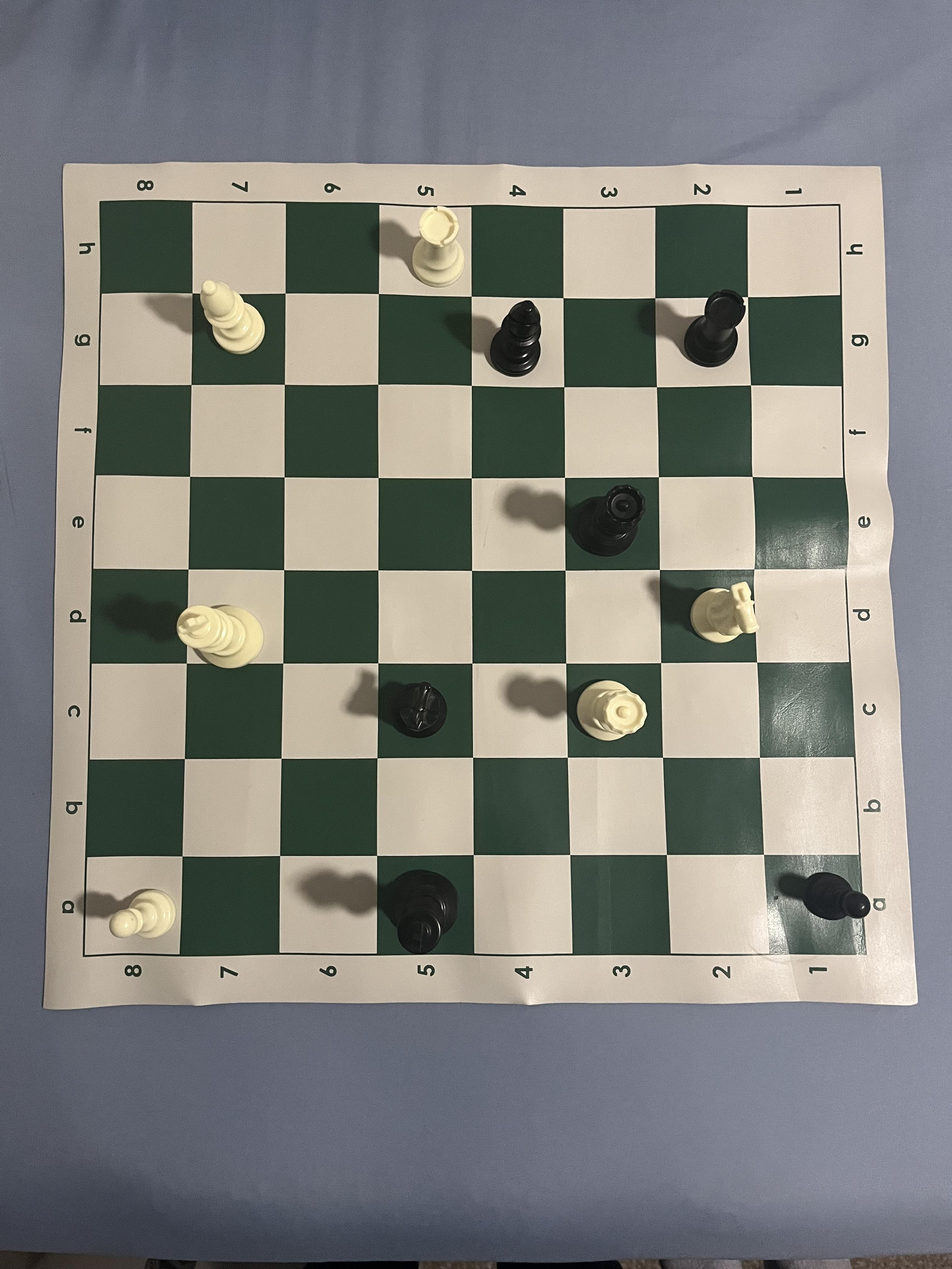black_bishop: (486, 298, 547, 378)
black_king: (383, 868, 464, 956)
black_knight: (388, 679, 452, 741)
black_pawn: (801, 871, 874, 926)
black_queen: (573, 481, 651, 560)
black_rook: (681, 288, 748, 370)
white_bishop: (199, 278, 269, 358)
white_king: (173, 600, 273, 672)
white_knight: (687, 580, 762, 647)
white_pawn: (106, 886, 178, 943)
white_queen: (573, 677, 649, 747)
white_rook: (409, 204, 468, 289)
